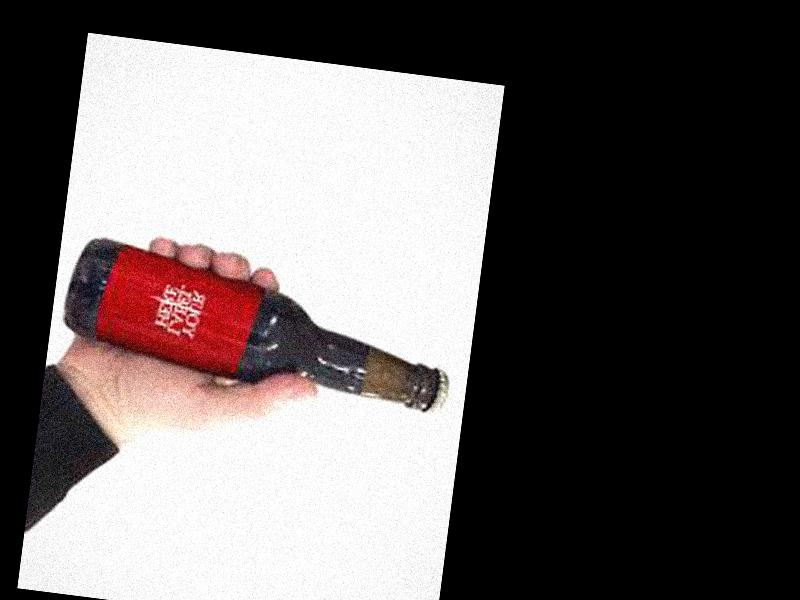Beer: (57, 233, 464, 418)
